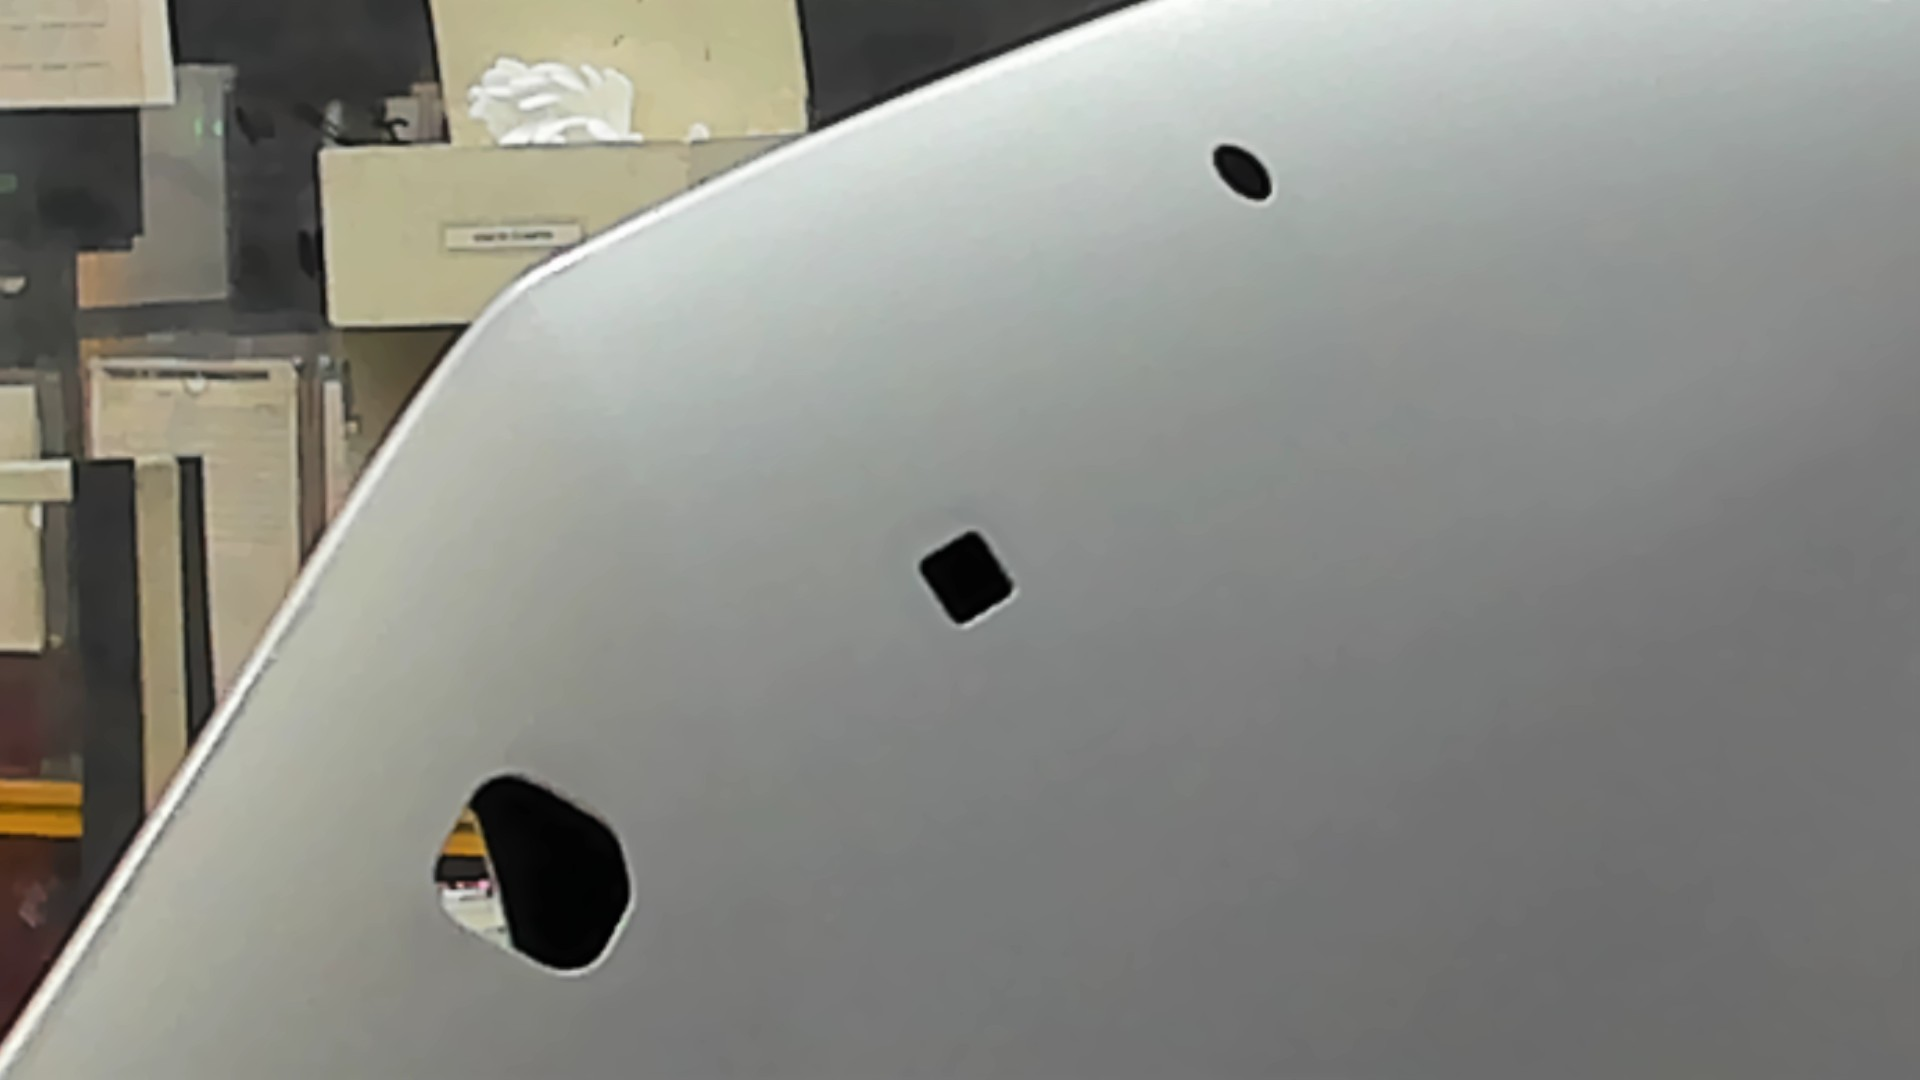Agujero: (916, 527, 1017, 630), (1211, 142, 1273, 200)
Agujerote: (430, 770, 636, 978)
